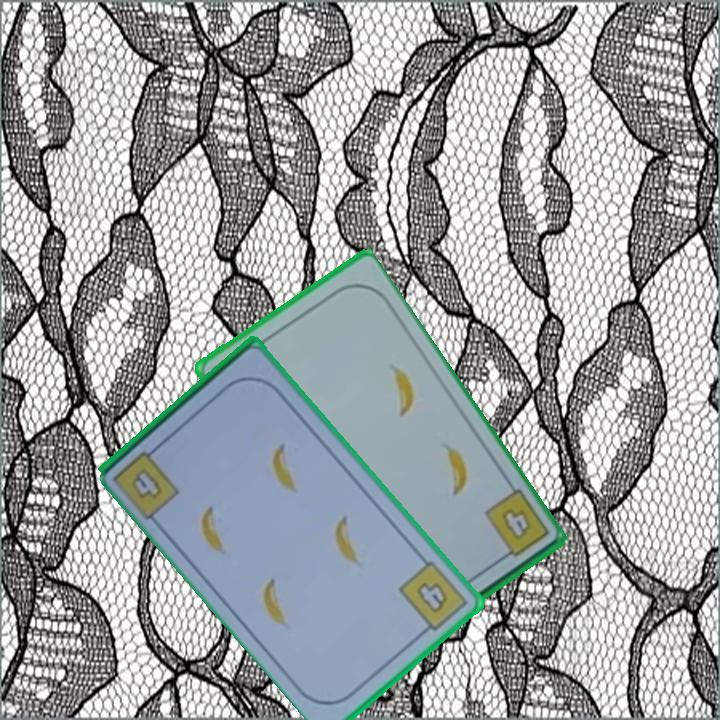4b: (395, 556, 471, 639), (480, 486, 552, 565), (128, 464, 166, 503)
